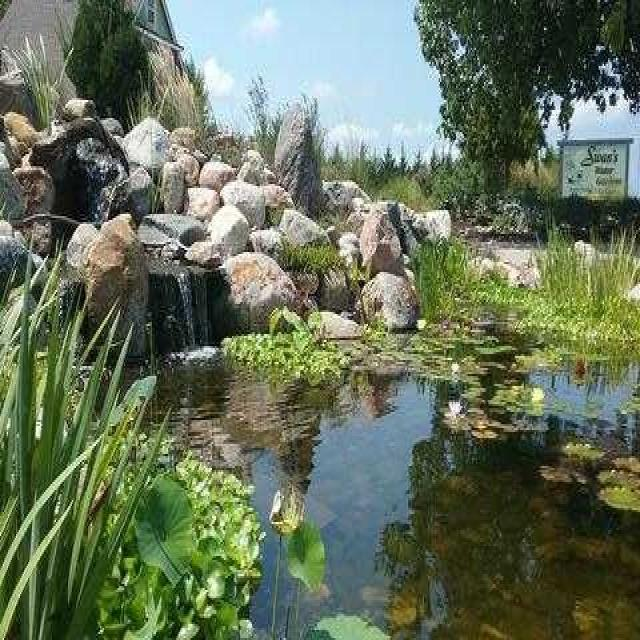Ponds: (8, 258, 640, 640)
